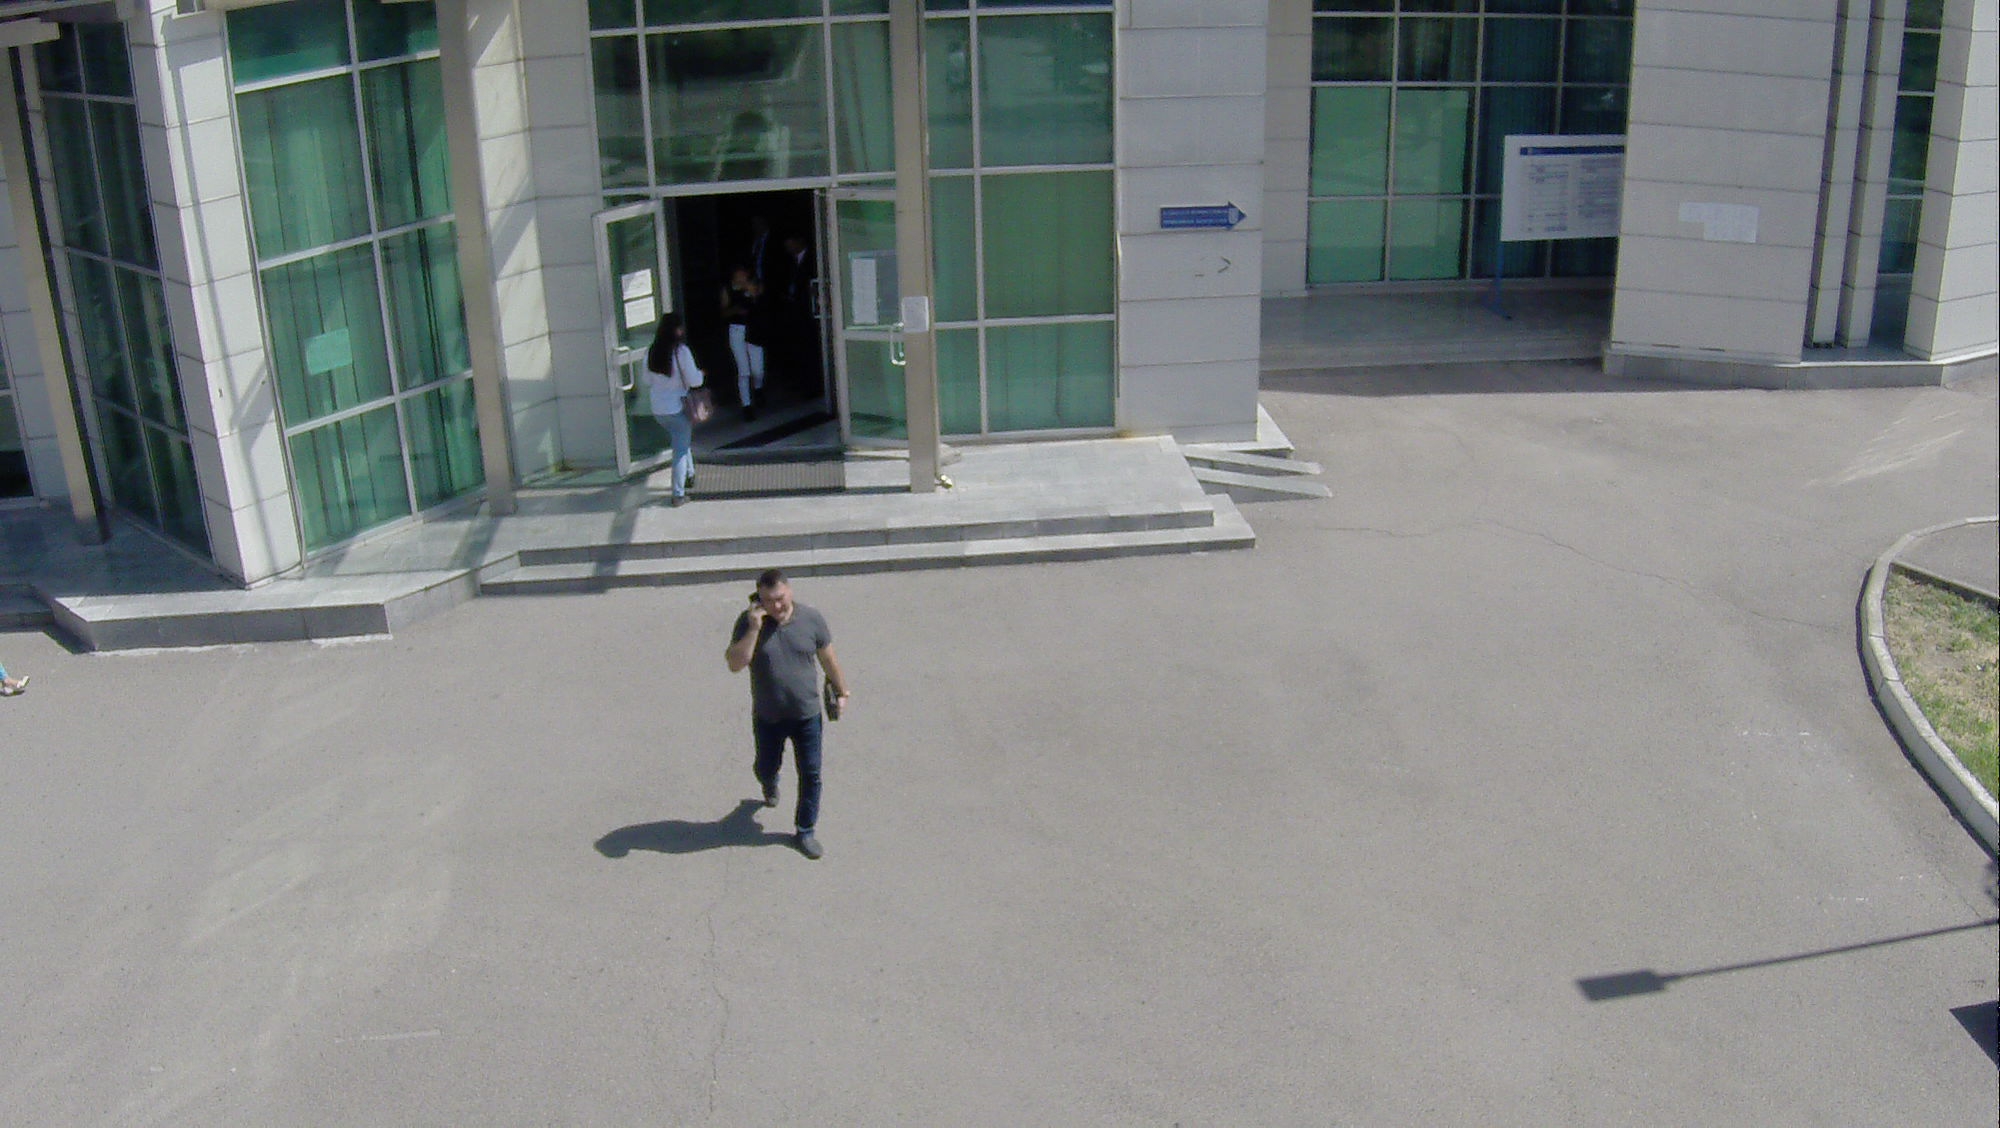person: (712, 560, 857, 874), (626, 316, 712, 514), (712, 264, 772, 426)
